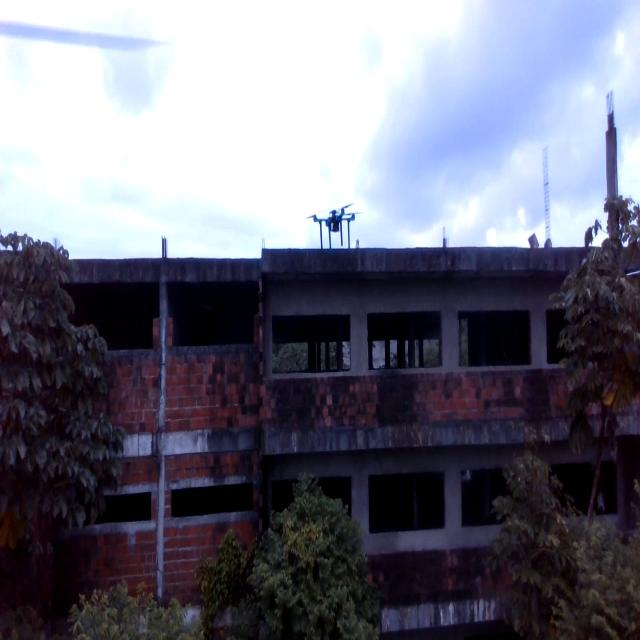-uav-: (303, 197, 365, 255)
